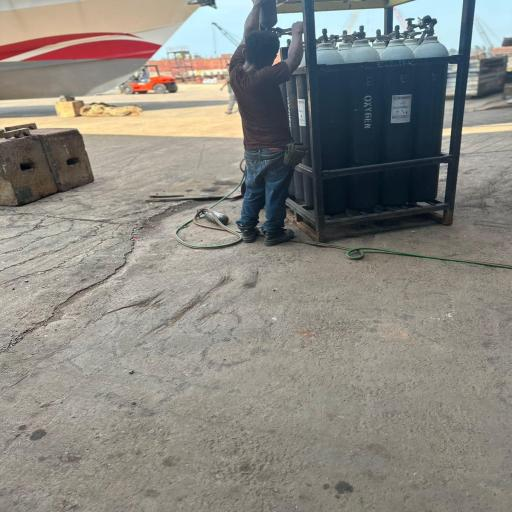safety_shoe: (262, 227, 295, 247), (234, 223, 262, 242)
